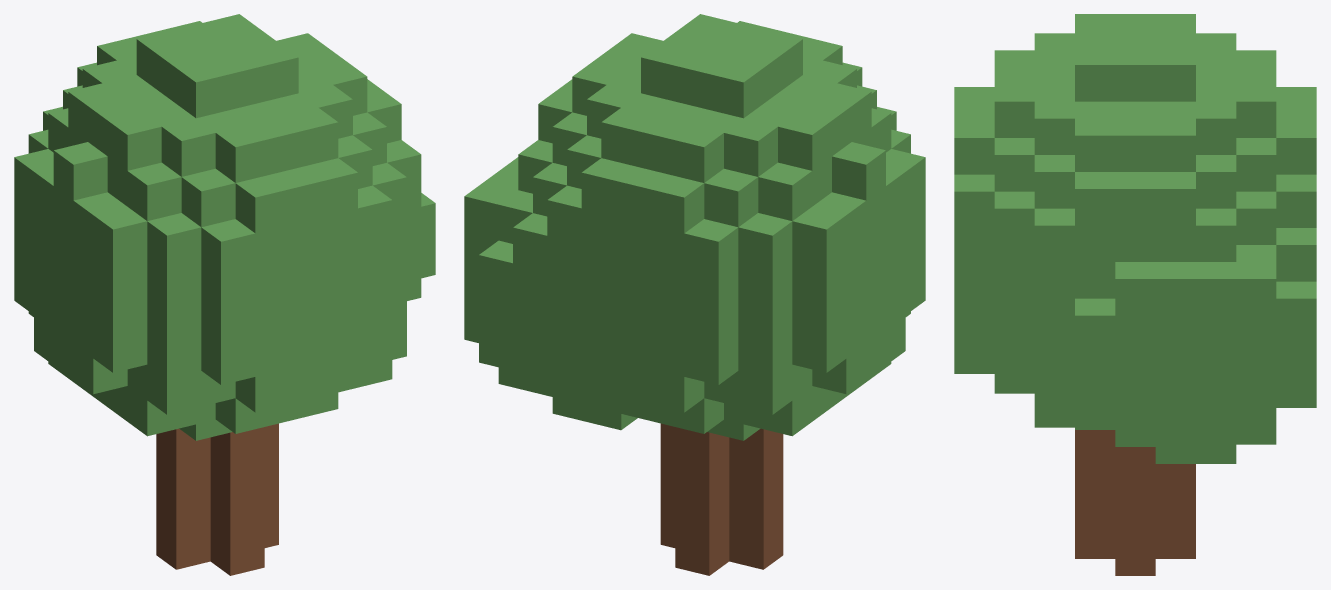
Rendered from tree.glb.
3 renders of one model, left to right at view 1: azimuth 30°, elevation 25°; view 2: azimuth 150°, elevation 25°; view 3: azimuth 270°, elevation 25°, orthographic.
Parts seen in each view (by area): view 1: tree_leaf, tree_trunk; view 2: tree_leaf, tree_trunk; view 3: tree_leaf, tree_trunk.
Boxes of the visible parts, bbox=[...] form: tree_leaf: bbox=[14, 14, 435, 440]; tree_trunk: bbox=[156, 423, 278, 575]; tree_leaf: bbox=[464, 14, 925, 440]; tree_trunk: bbox=[660, 423, 783, 575]; tree_leaf: bbox=[954, 14, 1316, 463]; tree_trunk: bbox=[1075, 430, 1195, 575].
Size of the model in its own units: 5 by 7 by 4.5.
